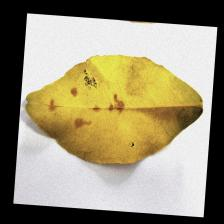black spot: (72, 70, 106, 93)
